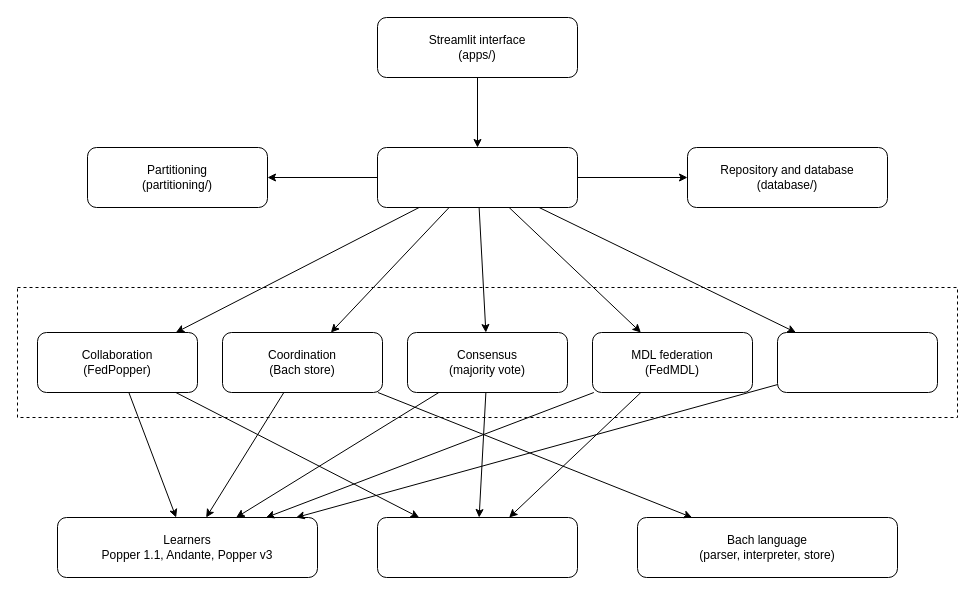
Some shapes in this 975 by 595 pixel diagram are drawn without their labels. The box of each missing label's shape, as (x1, y1, x2, y2) in pixels:
Centralized runners: (776, 332, 938, 392)
Engines (engines/): (16, 286, 958, 418)
Flower (gRPC): (376, 516, 578, 578)
Launcher and configuration (core/): (376, 146, 578, 208)
